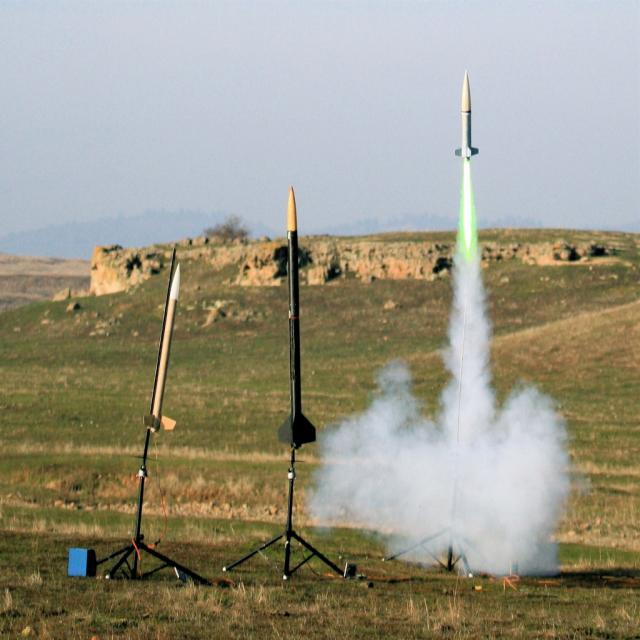rocket: (143, 261, 189, 437), (451, 68, 479, 330), (278, 187, 304, 453)
